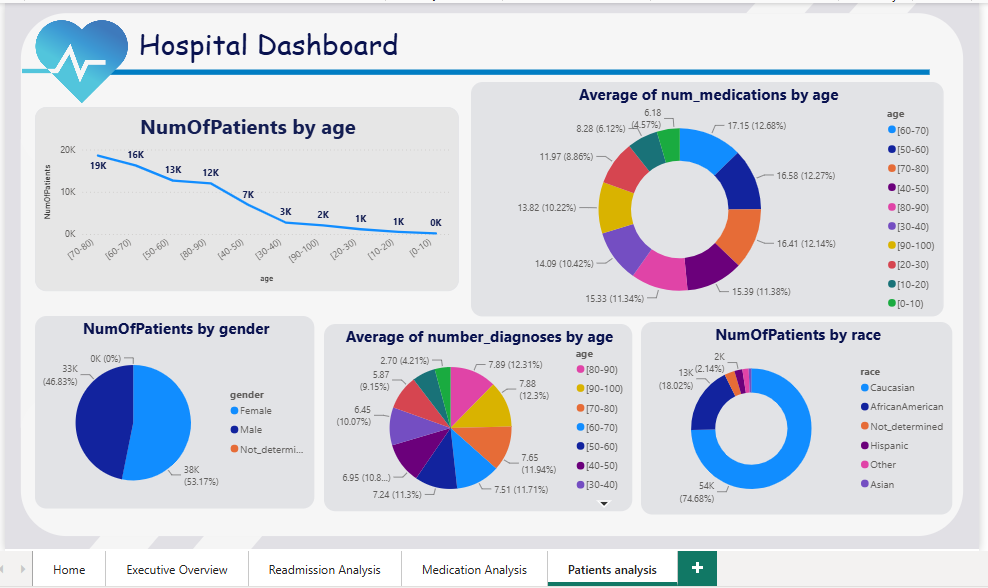

The dashboard page shown, as its layout file describes it:
{"tool":"powerbi","page":{"name":"Patients analysis","canvas":[1280,720],"ordinal":4},"visuals":[{"type":"image","box":[12.5,9.7,158.4,136.2],"z":0},{"type":"textbox","box":[170.9,22.2,359.9,79.2],"z":1000},{"type":"textbox","box":[180.9,32.2,359.9,79.2],"z":2000},{"type":"lineChart","fields":{"Category":["Data.age"],"Y":["Dax Measure.NumOfPatients"]},"box":[38.9,136.8,557.3,241.9],"z":3000},{"type":"donutChart","fields":{"Category":["Data.race"],"Y":["Dax Measure.NumOfPatients"]},"box":[835.2,419,409,253.4],"z":4000},{"type":"pieChart","fields":{"Category":["Data.gender"],"Y":["Dax Measure.Unique Patients"]},"box":[38.9,411.8,367.2,253.4],"z":5000},{"type":"donutChart","fields":{"Category":["Data.age"],"Y":["Avg(Data.num_medications)"]},"box":[612,103.7,620.6,308.2],"z":6000},{"type":"pieChart","fields":{"Category":["Data.age"],"Y":["Avg(Data.number_diagnoses)"]},"box":[419,421.9,404.6,246.2],"z":7000}]}

Visuals, with their boxes on the page's 1280x720 design canvas (x1, y1, x2, y2). These are canvas units, not pixel positions in the 988x588 screenshot, which may show the page scaled, cropped or inside an application window:
image: <bbox>12, 10, 171, 146</bbox>
textbox: <bbox>171, 22, 531, 101</bbox>
textbox: <bbox>181, 32, 541, 111</bbox>
lineChart - Data.age x Dax Measure.NumOfPatients: <bbox>39, 137, 596, 379</bbox>
donutChart - Data.race x Dax Measure.NumOfPatients: <bbox>835, 419, 1244, 672</bbox>
pieChart - Data.gender x Dax Measure.Unique Patients: <bbox>39, 412, 406, 665</bbox>
donutChart - Data.age x Avg(Data.num_medications): <bbox>612, 104, 1233, 412</bbox>
pieChart - Data.age x Avg(Data.number_diagnoses): <bbox>419, 422, 824, 668</bbox>
